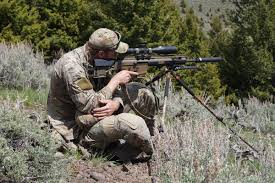Gun: (125, 45, 216, 82)
